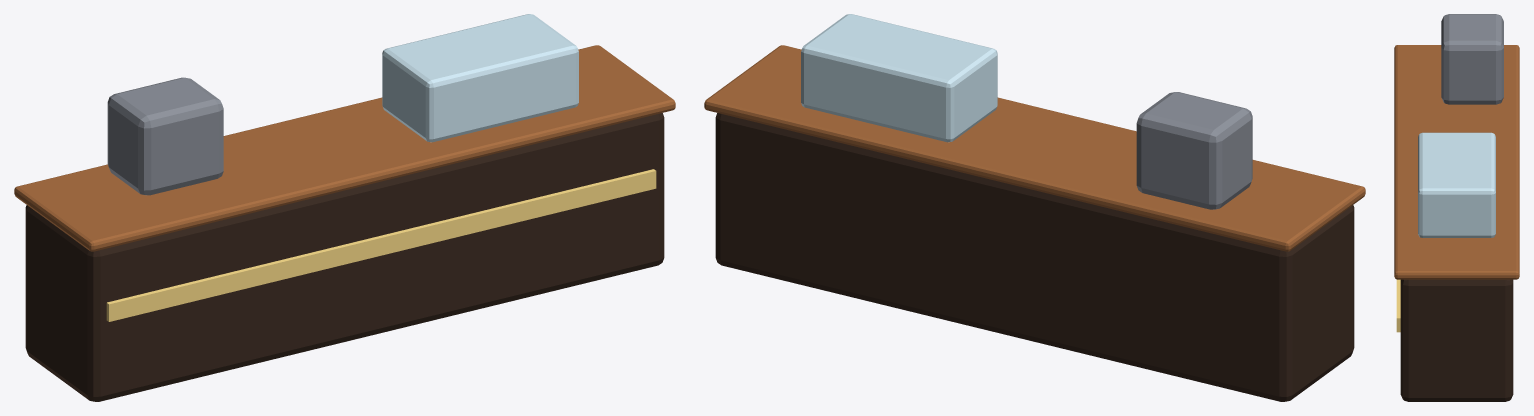
File: int_konterKafe.fbx
3 views of the same model, side by side, from view 1: azimuth 30°, elevation 25°; view 2: azimuth 150°, elevation 25°; view 3: azimuth 270°, elevation 25° (orthographic). The views are drawn at different scales.
Visible parts, largest first — view 1: int_konterKafe; view 2: int_konterKafe; view 3: int_konterKafe.
Part boxes in pixels (x1,y1,x2,y2): int_konterKafe: [14, 14, 675, 401]; int_konterKafe: [704, 14, 1365, 401]; int_konterKafe: [1394, 14, 1519, 401].
Bounding box in the file's own units: 346 × 140 × 80.
1 material, 1 textured.
